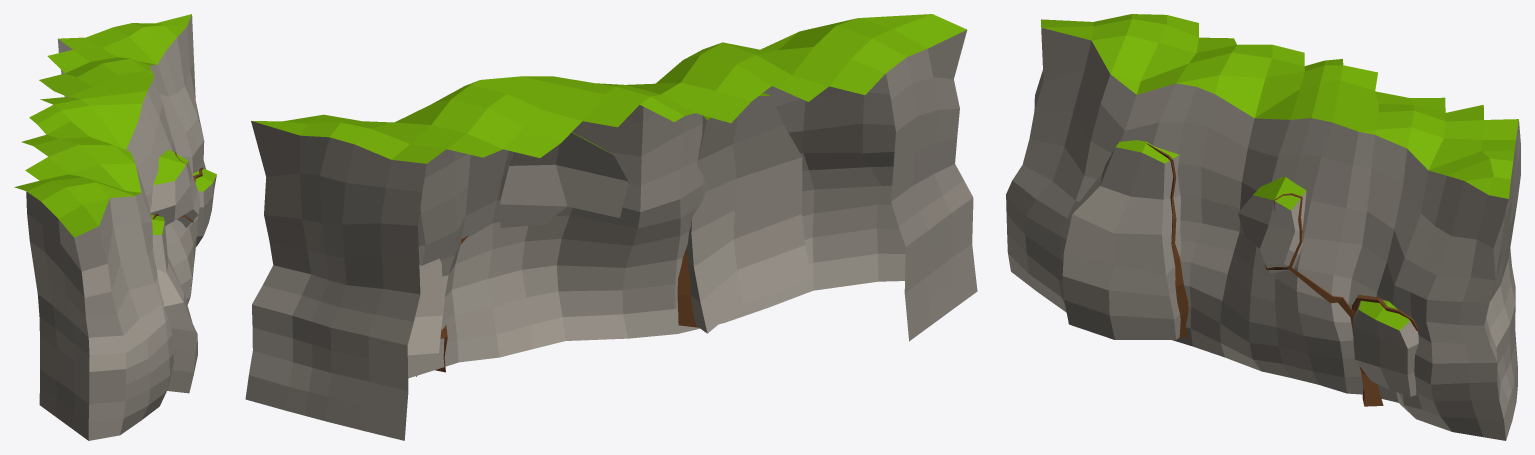
Rendered from Cliff 006.fbx.
3 views of the same model, side by side, from view 1: azimuth 30°, elevation 25°; view 2: azimuth 150°, elevation 25°; view 3: azimuth 270°, elevation 25° (orthographic). The views are drawn at different scales.
Parts seen in each view (by area): view 1: Cliff 006; view 2: Cliff 006; view 3: Cliff 006.
Boxes of the visible parts, x1,y1,x2,y2 form: Cliff 006: [14, 14, 216, 440]; Cliff 006: [245, 14, 977, 440]; Cliff 006: [1006, 14, 1520, 440].
Bounding box in the file's own units: 804 × 534 × 944.
